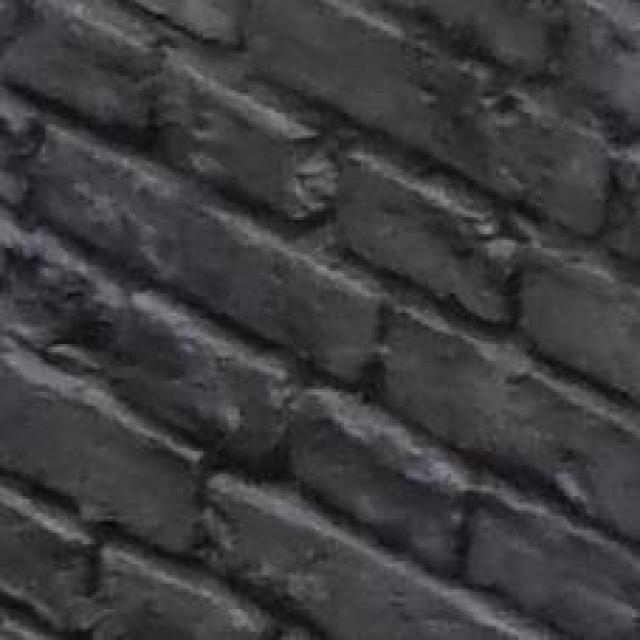Crack: (0, 57, 217, 442)
